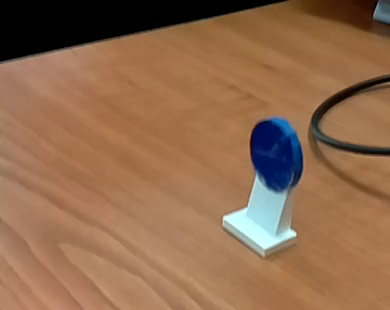circle: (199, 100, 324, 269)
